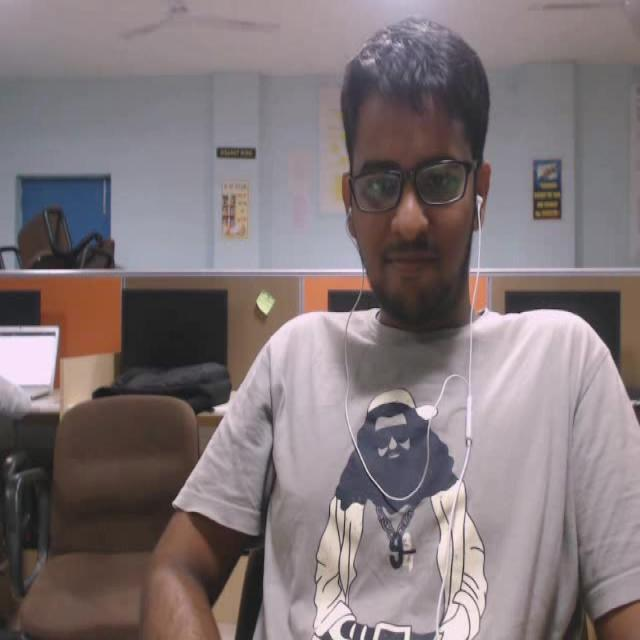Engaged: (304, 18, 520, 366)
